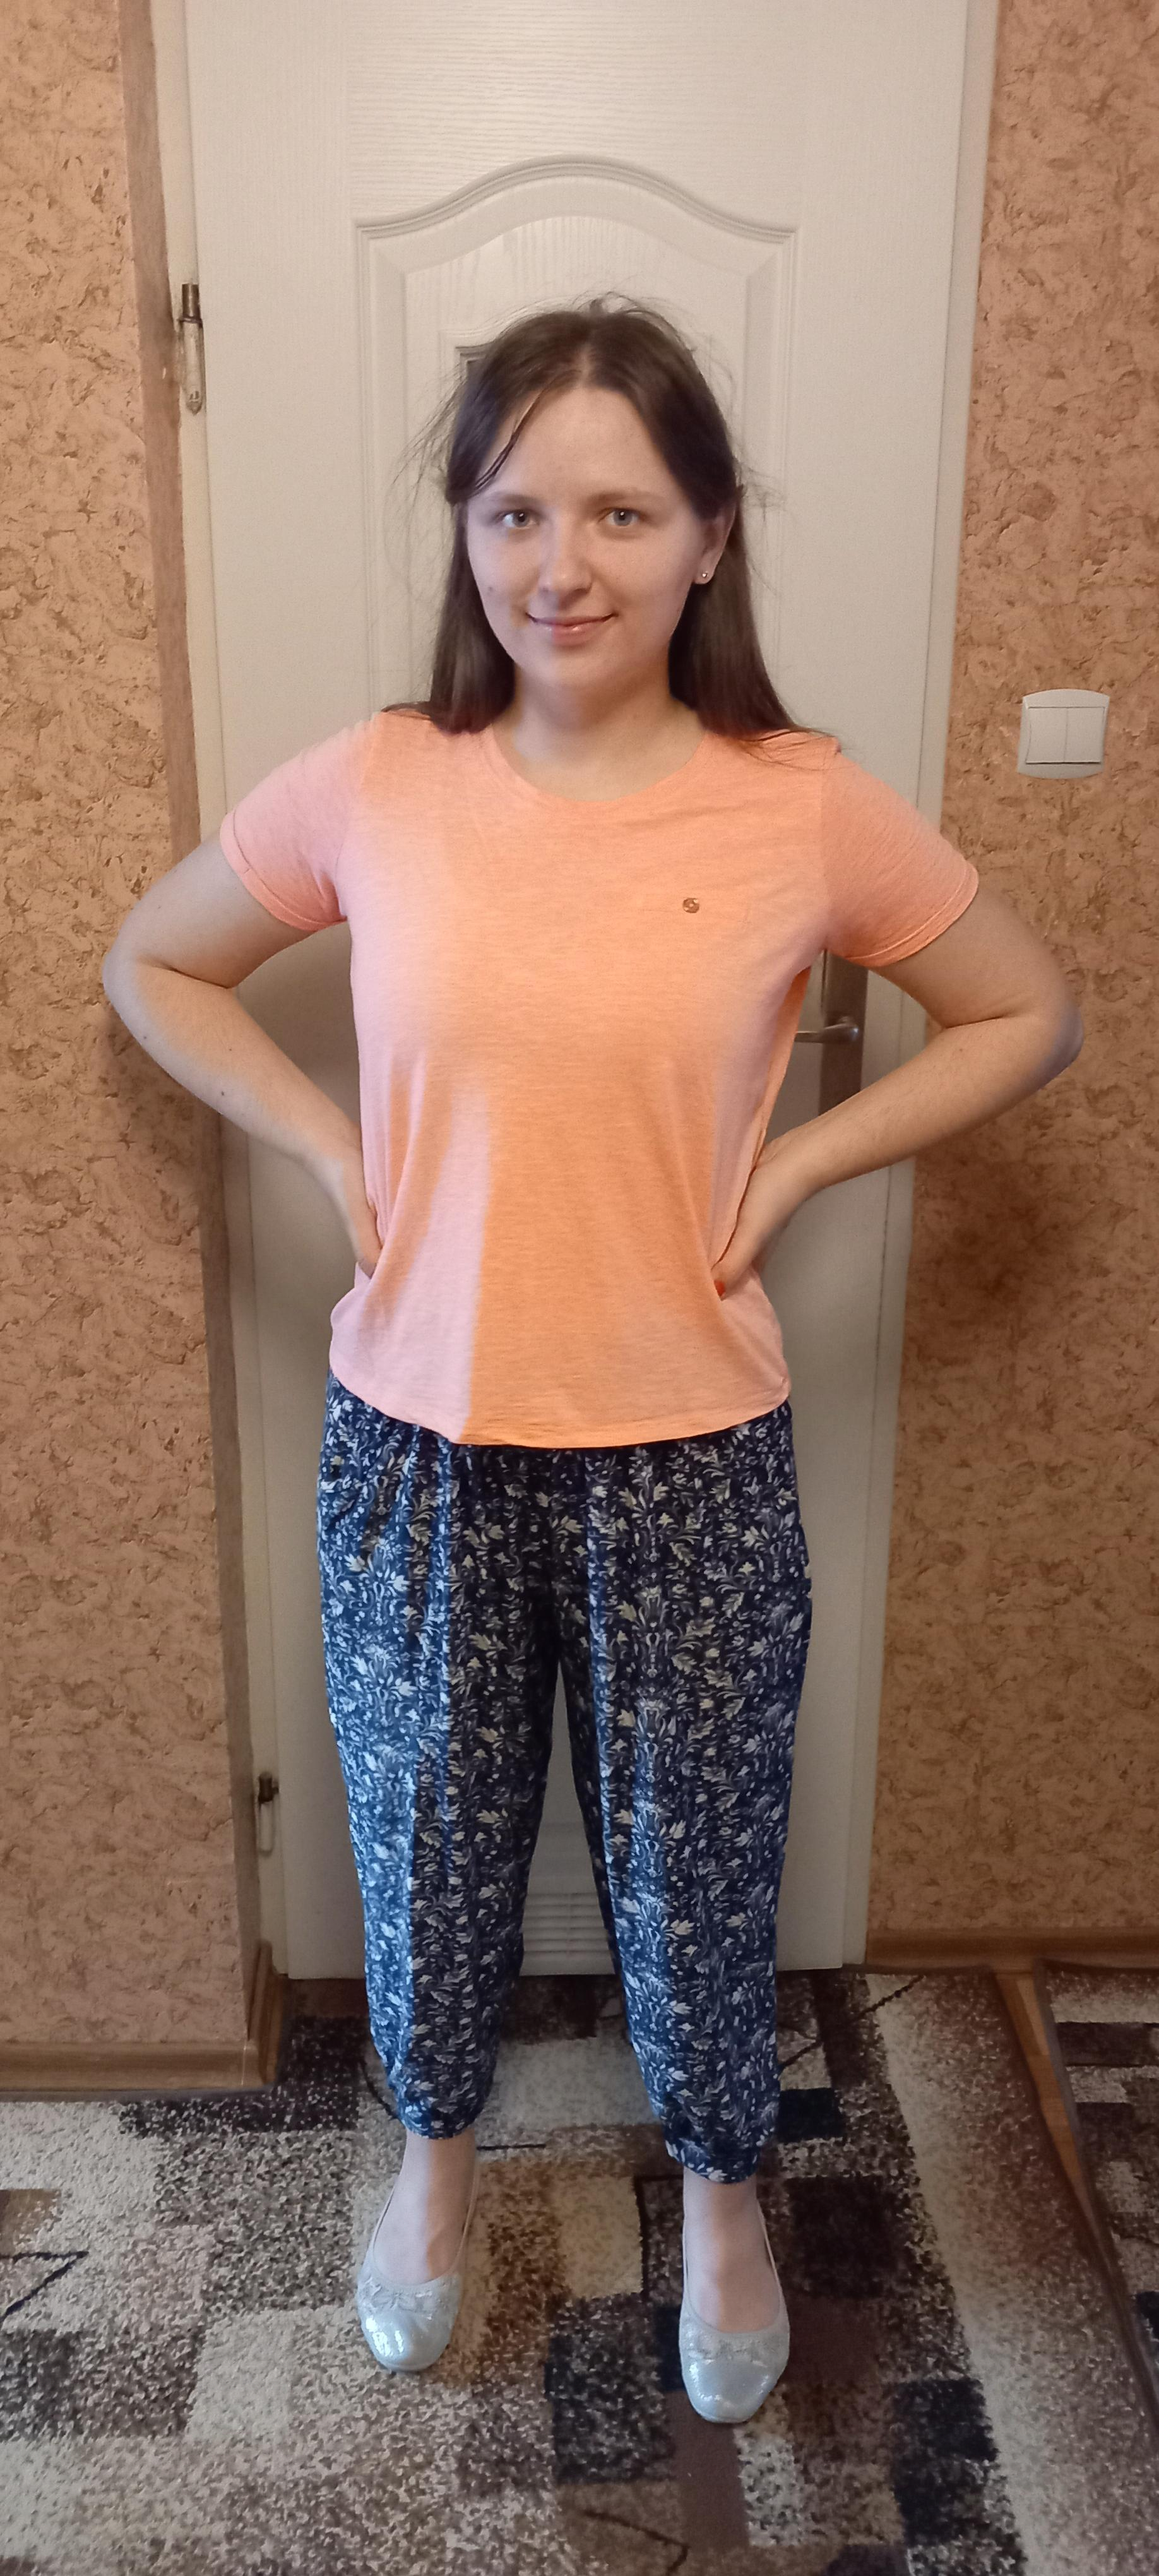Tshirt: (222, 710, 978, 1449)
pants: (315, 1375, 814, 2185)
